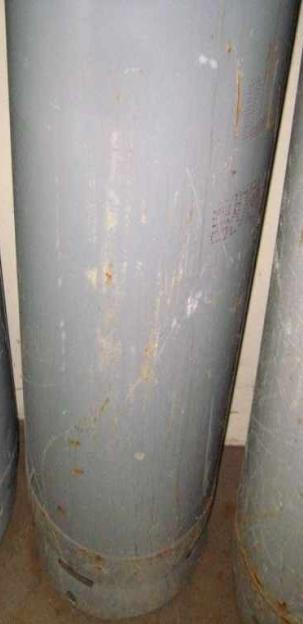cylinder: (1, 0, 303, 624)
